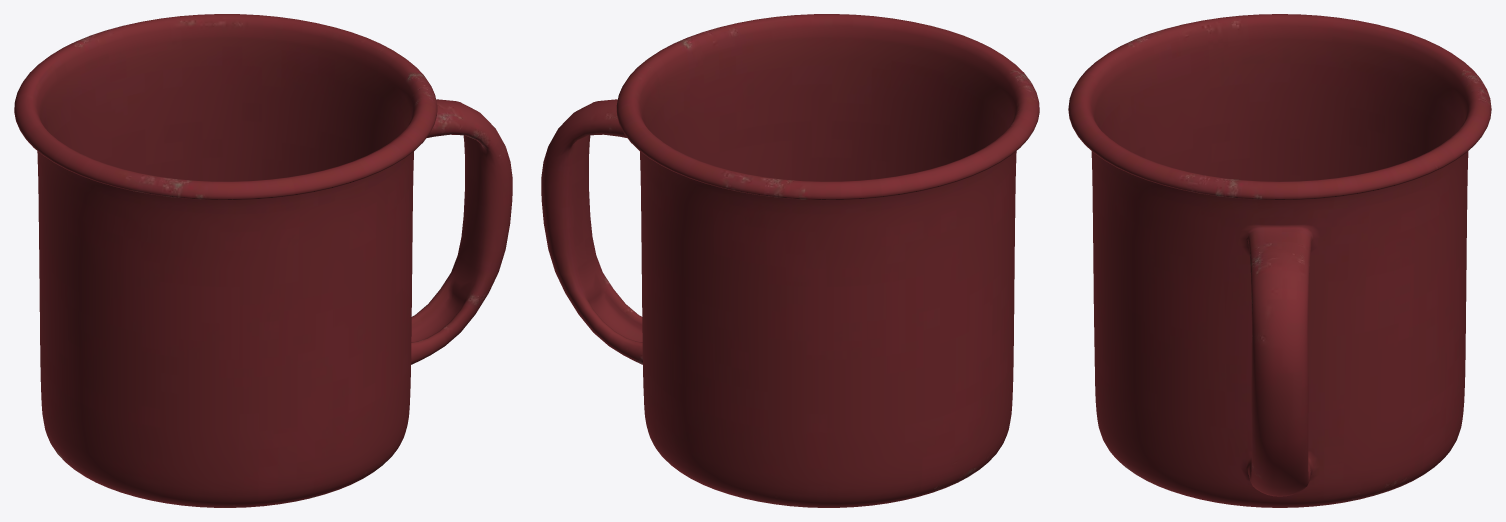
The model's file is dishware_mug_a01.glb.
The picture shows the model from 3 angles, left to right: view 1: azimuth 30°, elevation 25°; view 2: azimuth 150°, elevation 25°; view 3: azimuth 270°, elevation 25°; orthographic projection.
Visible parts, largest first — view 1: dishware_mug_a01_mesh_00.001; view 2: dishware_mug_a01_mesh_00.001; view 3: dishware_mug_a01_mesh_00.001.
Boxes of the visible parts, box(x1,y1,x2,y2) form: dishware_mug_a01_mesh_00.001: box(14, 14, 512, 507); dishware_mug_a01_mesh_00.001: box(541, 14, 1039, 507); dishware_mug_a01_mesh_00.001: box(1068, 14, 1491, 507).
Bounding box in the file's own units: 0.1144 × 0.08 × 0.0902.
1 material, 1 textured.
